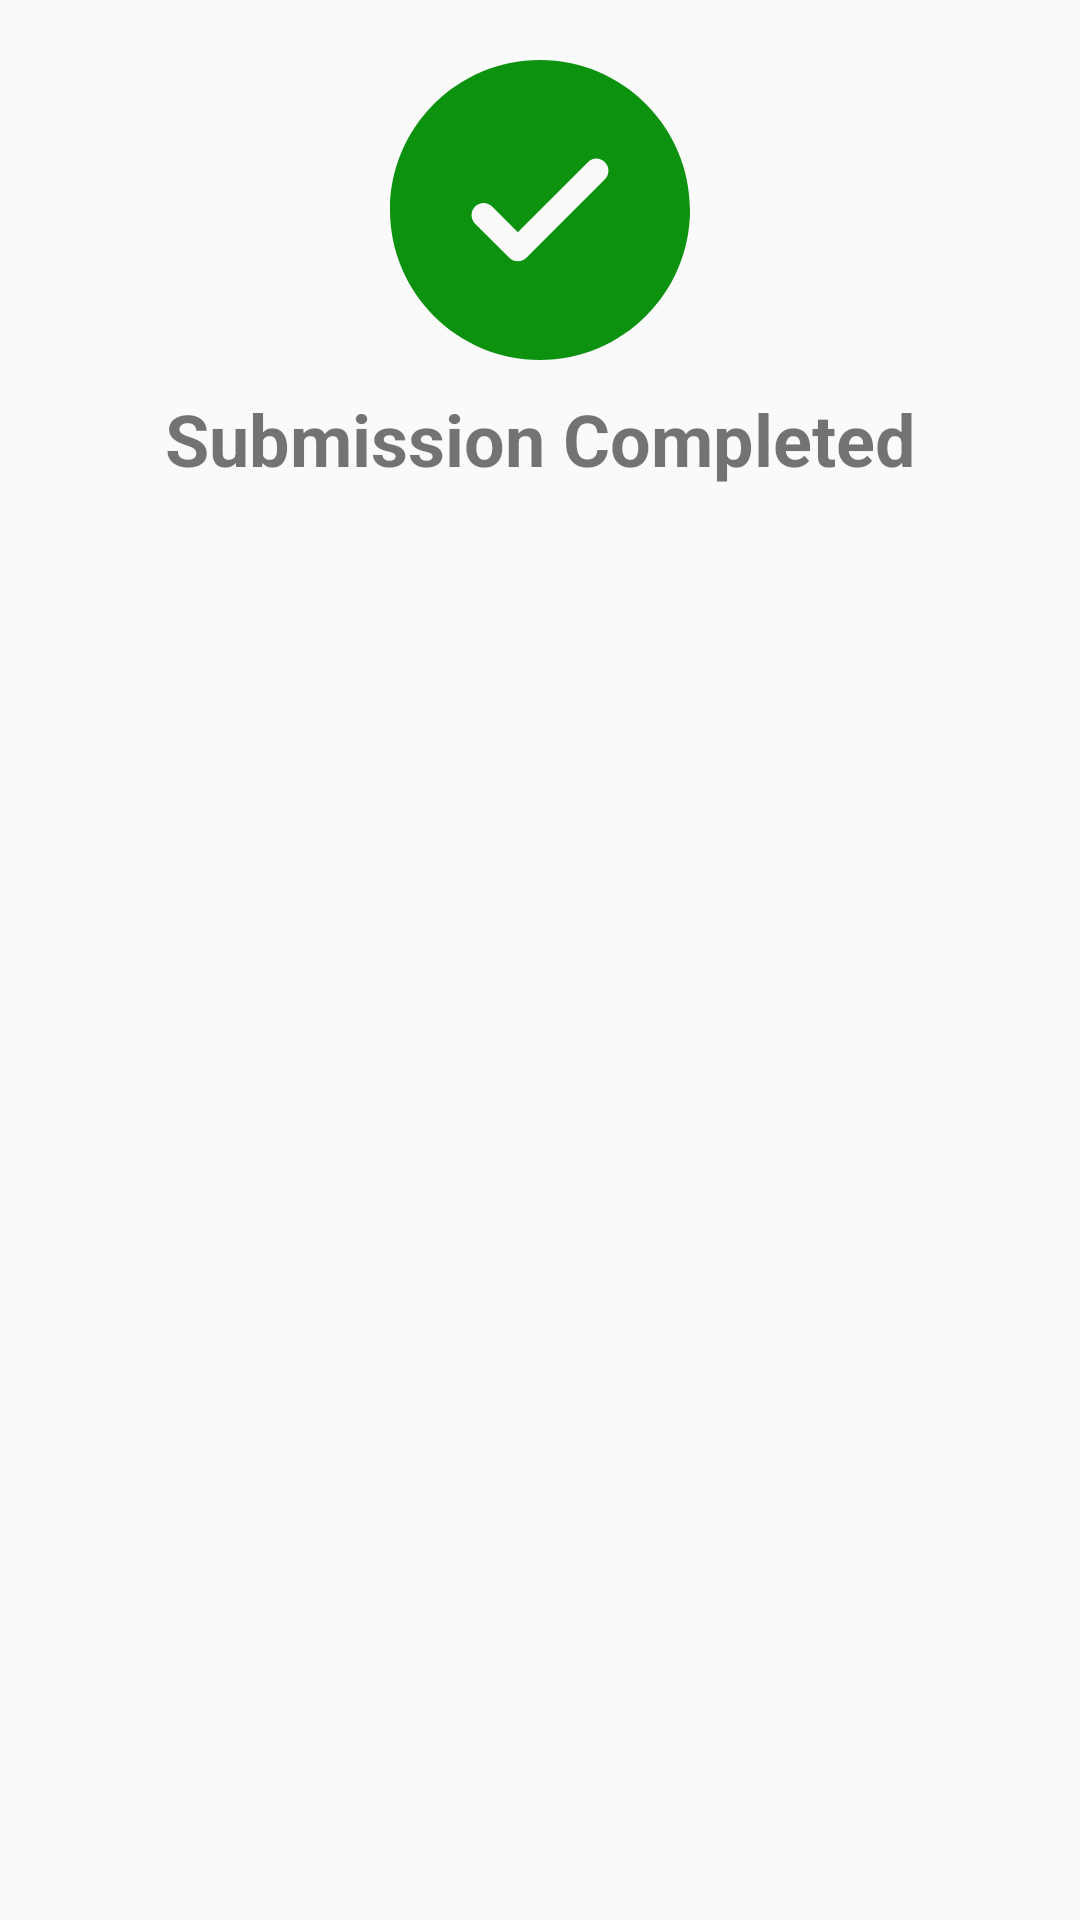

Where icons sit on this 1080px x 1920px app screen, as box=[x1, y1, x2, y2]:
check mark: box=[390, 60, 690, 360]
